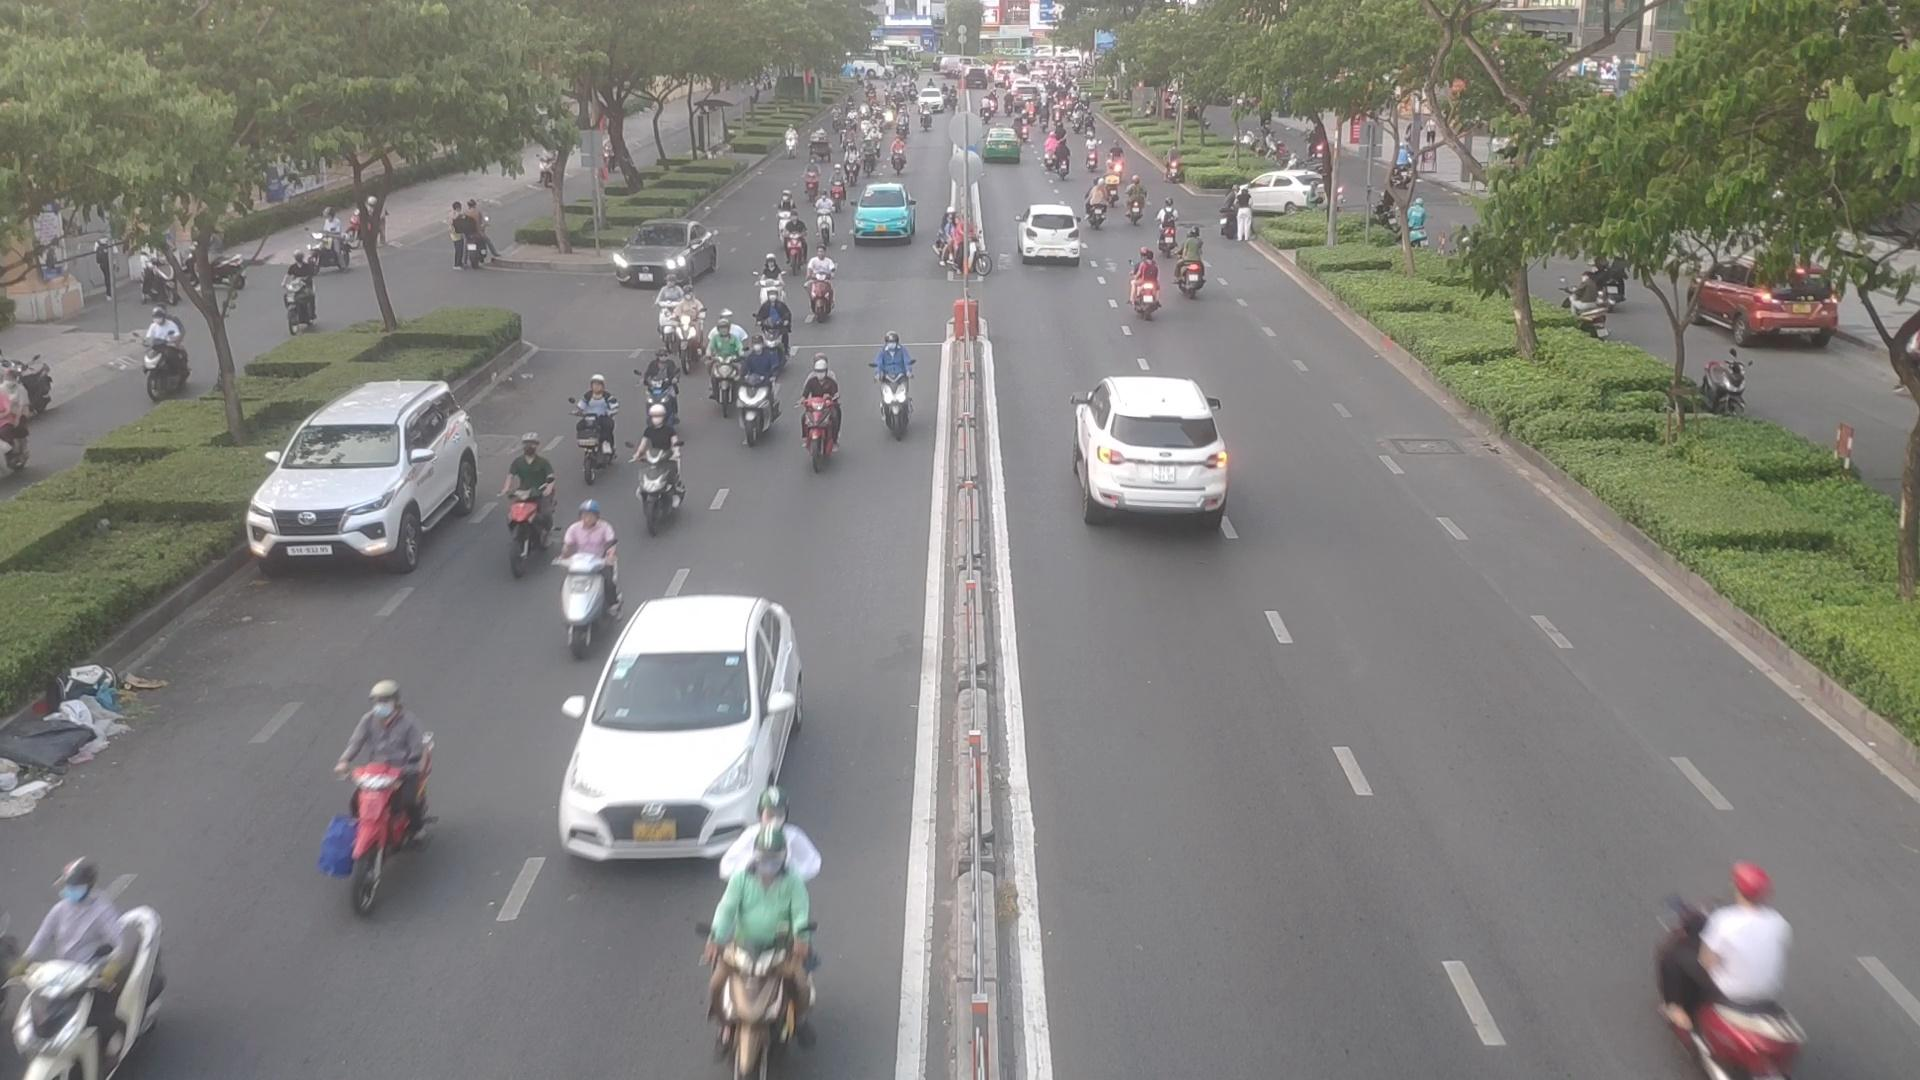car: (553, 597, 808, 862), (247, 382, 488, 576), (1075, 373, 1236, 520), (611, 222, 715, 291), (1019, 203, 1085, 266), (1238, 171, 1327, 216), (853, 185, 919, 243)
motorbike: (1578, 858, 1805, 1080), (680, 793, 807, 1058), (29, 862, 173, 1073), (326, 680, 444, 909), (560, 508, 644, 651), (502, 443, 564, 566), (803, 356, 861, 479), (640, 404, 684, 545), (880, 331, 920, 451), (583, 375, 622, 485), (802, 240, 851, 330), (709, 295, 744, 422), (944, 218, 1002, 290), (640, 352, 687, 435), (1124, 248, 1171, 324), (741, 339, 771, 454), (675, 286, 709, 380), (753, 252, 790, 322), (1180, 225, 1213, 301), (756, 287, 786, 367), (781, 214, 814, 277), (766, 187, 796, 233), (659, 278, 676, 349), (811, 190, 829, 240), (1156, 206, 1179, 247), (1125, 179, 1141, 222)
